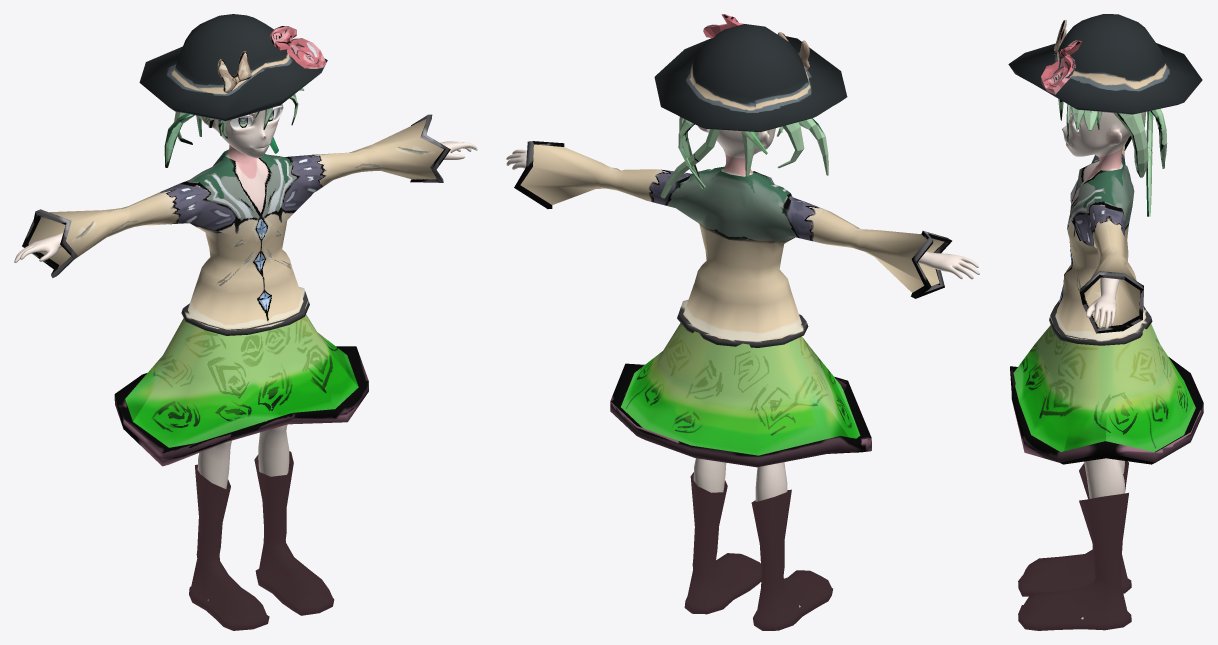
The model's file is koishi_komeji(with hat).fbx.
3 renders of one model, left to right at view 1: azimuth 30°, elevation 25°; view 2: azimuth 150°, elevation 25°; view 3: azimuth 270°, elevation 25°, orthographic. The views are drawn at different scales.
Visible parts, largest first — view 1: MainMesh, rose.001; view 2: MainMesh, rose.001; view 3: MainMesh, rose.001.
Part boxes in pixels (bbox=[...]): MainMesh: bbox=[14, 88, 477, 630]; rose.001: bbox=[139, 14, 327, 121]; MainMesh: bbox=[506, 117, 979, 630]; rose.001: bbox=[654, 14, 847, 132]; MainMesh: bbox=[1010, 99, 1203, 630]; rose.001: bbox=[1008, 14, 1202, 114].
Bounding box in the file's own units: 160 × 188 × 57.38.
Materials: 10 (8 with a texture image).
